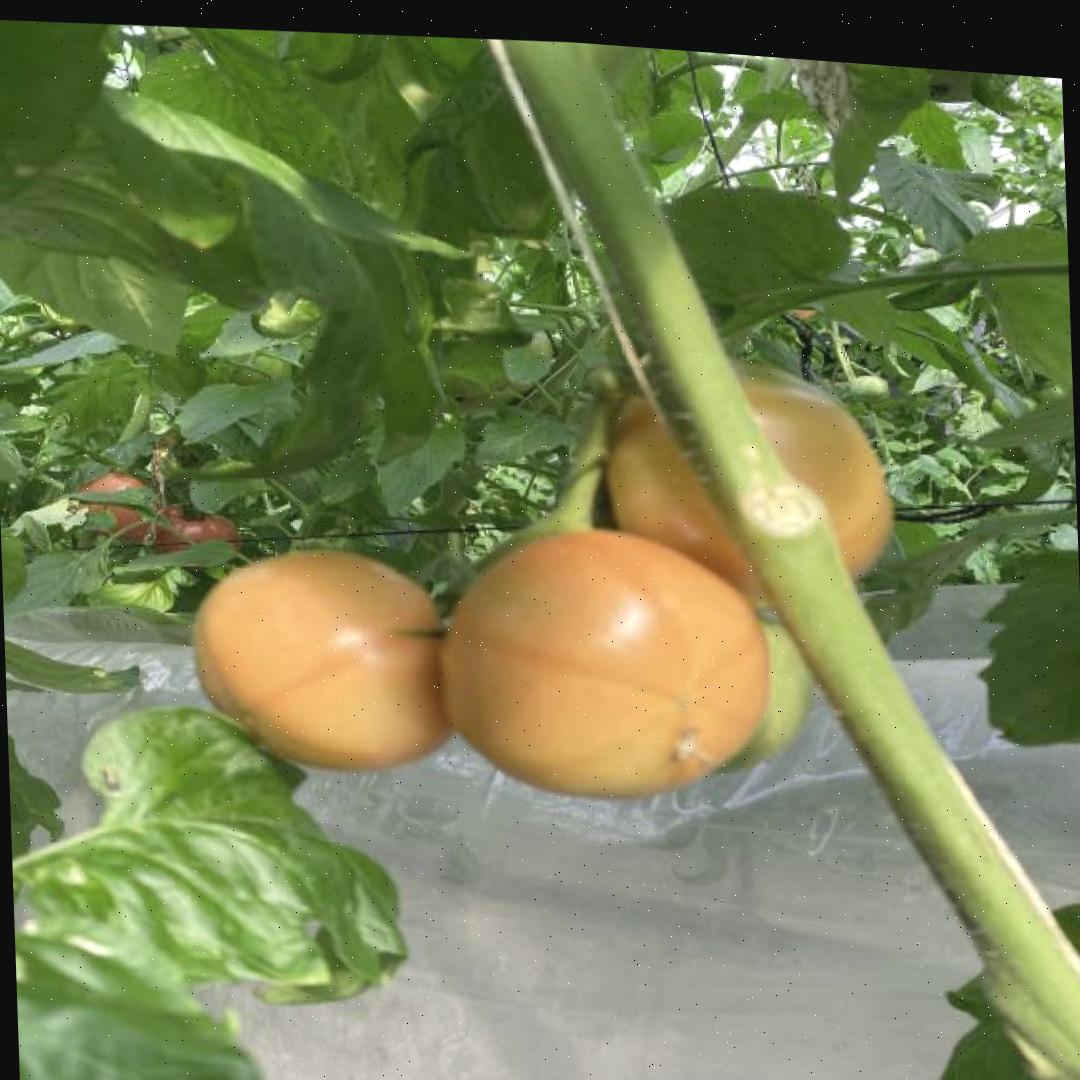matang: (144, 502, 240, 574)
setengah_matang: (427, 506, 775, 816), (595, 340, 902, 625), (186, 532, 466, 786)
